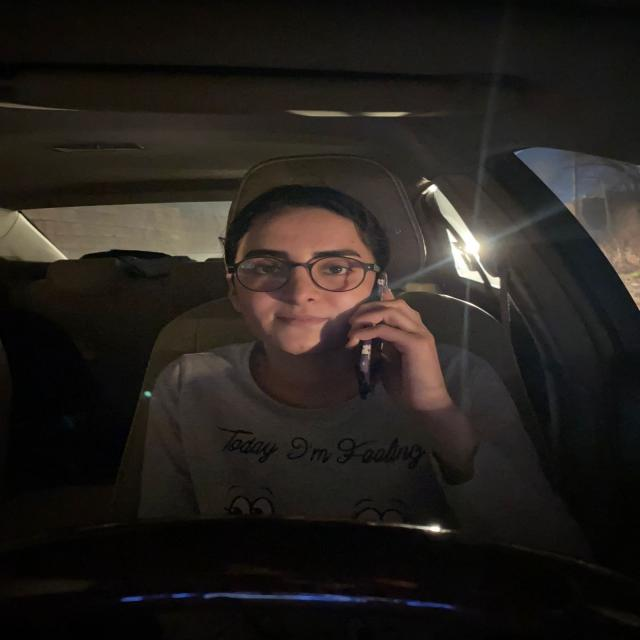mobile: (356, 282, 404, 376)
person: (221, 188, 379, 354)
